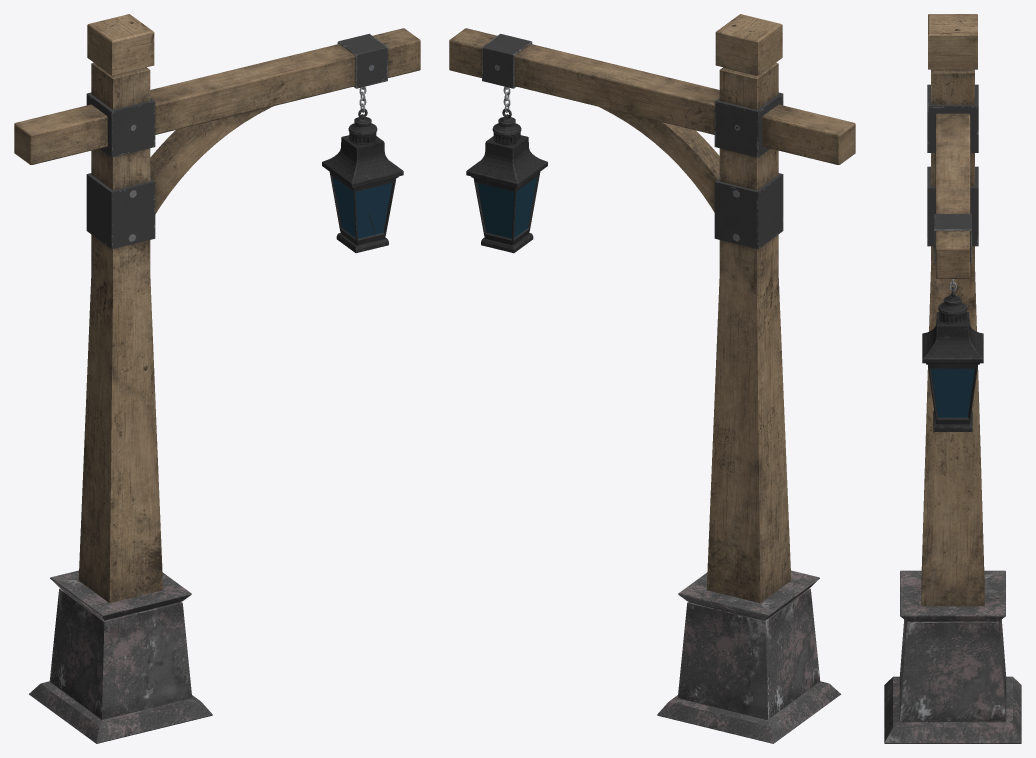
Rendered from Lantern.obj.
3 renders of one model, left to right at view 1: azimuth 30°, elevation 25°; view 2: azimuth 150°, elevation 25°; view 3: azimuth 270°, elevation 25°, orthographic.
Parts seen in each view (by area): view 1: LanternPole_Body, LanternPole_Lantern; view 2: LanternPole_Body, LanternPole_Lantern; view 3: LanternPole_Body, LanternPole_Lantern.
Part boxes in pixels (<box>): LanternPole_Body: <box>14,14,420,743</box>; LanternPole_Lantern: <box>322,108,403,253</box>; LanternPole_Body: <box>449,14,855,743</box>; LanternPole_Lantern: <box>466,108,547,253</box>; LanternPole_Body: <box>884,14,1021,743</box>; LanternPole_Lantern: <box>922,287,983,431</box>.
Size of the model in its own units: 1.81 by 3 by 0.5419.
1 material, 1 textured.
